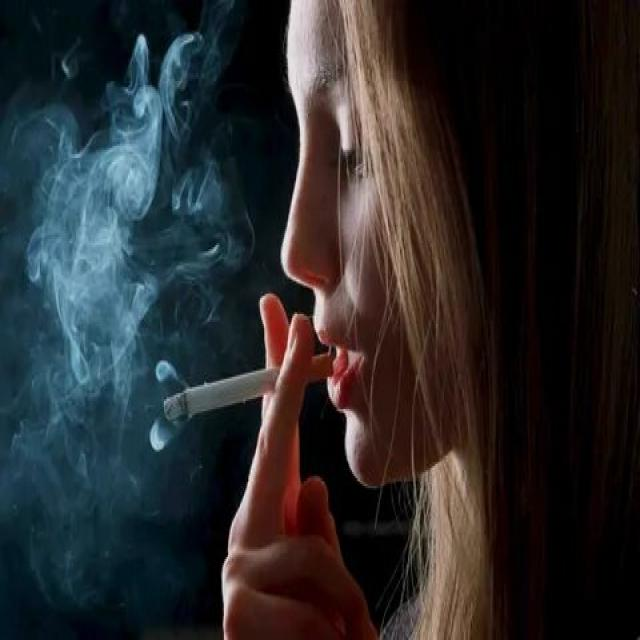cigarette: (160, 348, 340, 432)
